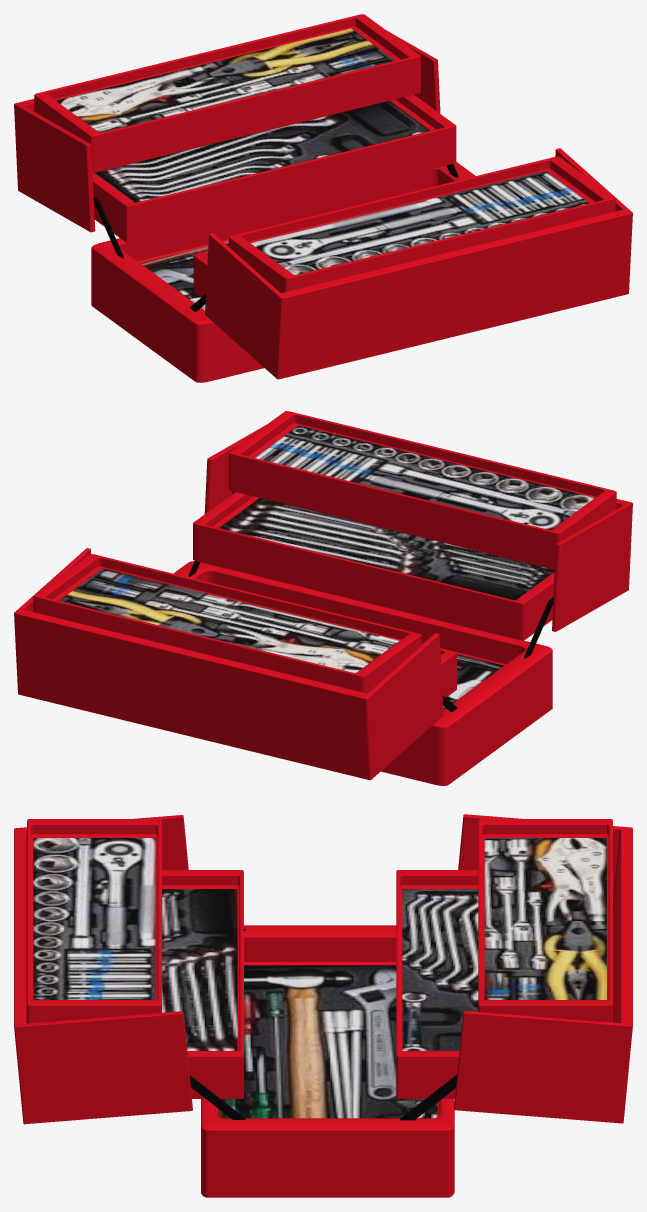
File: ToolBox4.fbx
3 renders of one model, top to bottom at view 1: azimuth 30°, elevation 25°; view 2: azimuth 150°, elevation 25°; view 3: azimuth 270°, elevation 25°, orthographic. The views are drawn at different scales.
Parts seen in each view (by area): view 1: Cube.005, Cube.002, Cube.001, Cube.003, Cube.015, Cube.014, Cube.004; view 2: Cube.014, Cube.003, Cube.004, Cube.002, Cube.015, Cube.005, Cube.001; view 3: Cube.015, Cube.003, Cube.002, Cube.014, Cube.005, Cube.001, Cube.004, Cube.006, Cube.009.
Part boxes in pixels (<box>): Cube.005: <box>205,148,632,379</box>; Cube.002: <box>34,14,420,172</box>; Cube.001: <box>92,95,456,242</box>; Cube.003: <box>229,156,615,292</box>; Cube.015: <box>91,162,475,382</box>; Cube.014: <box>14,30,440,232</box>; Cube.004: <box>193,246,228,297</box>; Cube.014: <box>14,548,443,780</box>; Cube.003: <box>228,411,616,569</box>; Cube.004: <box>193,492,554,640</box>; Cube.002: <box>33,554,421,693</box>; Cube.015: <box>173,561,552,785</box>; Cube.005: <box>204,425,632,631</box>; Cube.001: <box>421,643,456,697</box>; Cube.015: <box>201,925,454,1197</box>; Cube.003: <box>27,819,161,1023</box>; Cube.002: <box>478,819,612,1022</box>; Cube.014: <box>454,814,632,1123</box>; Cube.005: <box>14,815,192,1124</box>; Cube.001: <box>396,870,478,1098</box>; Cube.004: <box>162,870,243,1098</box>; Cube.006: <box>400,1074,457,1120</box>; Cube.009: <box>189,1075,245,1119</box>.
Size of the model in its own units: 32.91 by 13.76 by 42.01.
Materials: 20 (5 with a texture image).
